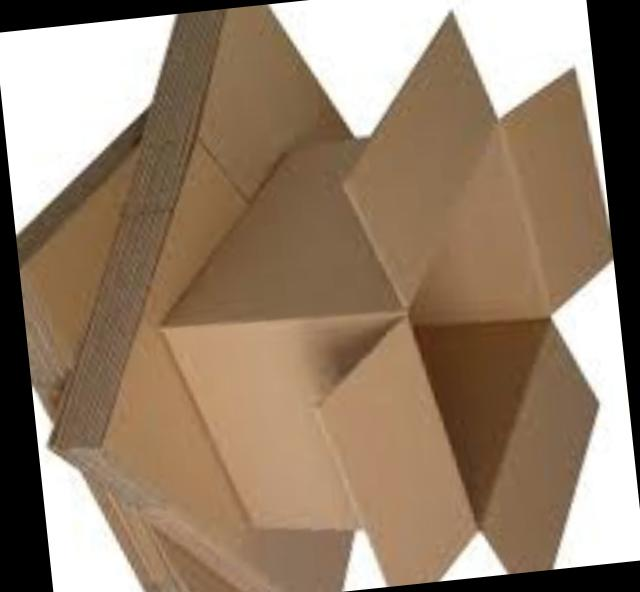cardboard paper: (168, 20, 614, 586), (45, 4, 355, 592)
